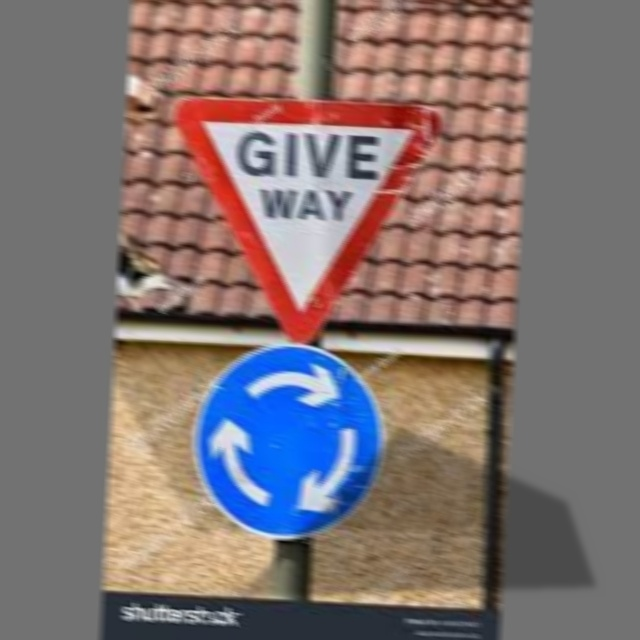Give_Way: (171, 94, 439, 352)
